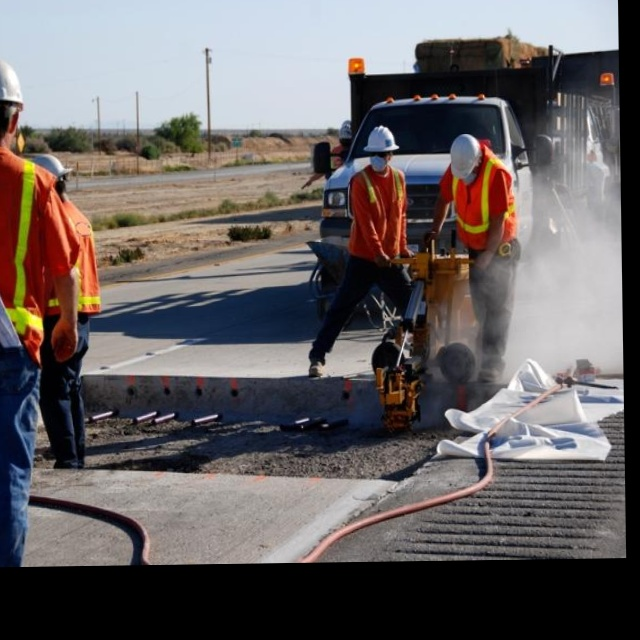Con_Casco: (0, 57, 23, 150), (448, 133, 482, 183), (364, 125, 399, 169)
Con_Chaleco: (0, 151, 59, 355), (350, 170, 412, 257)
